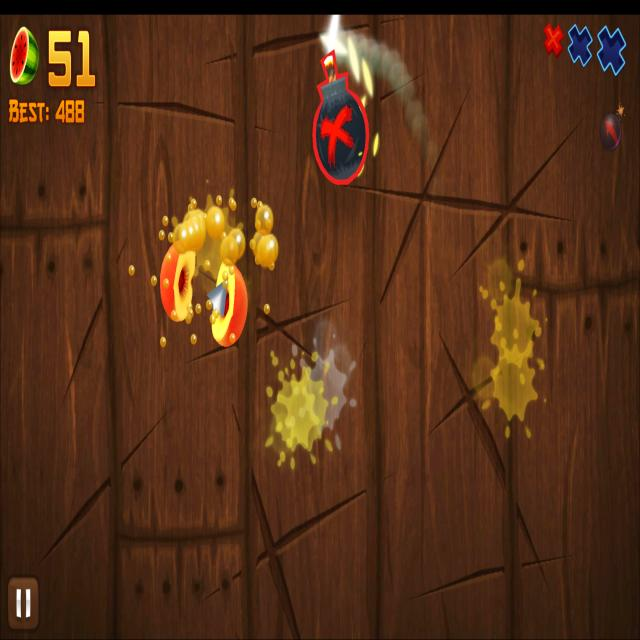bomb: (312, 47, 371, 188)
